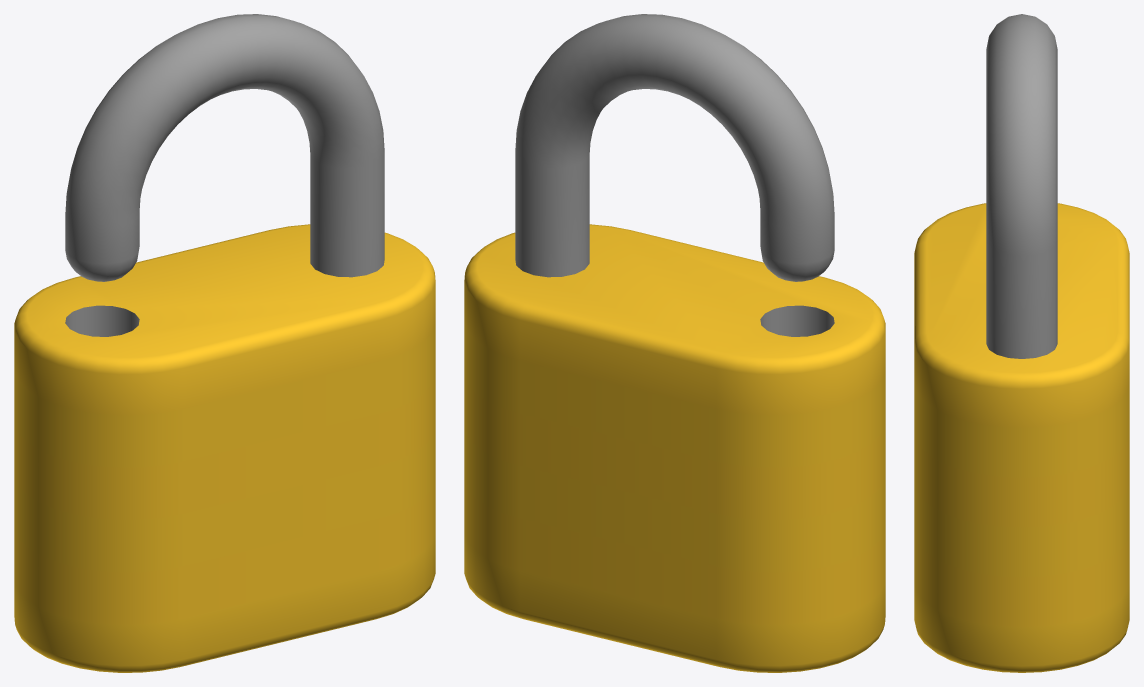
File: unlocked.glb
The picture shows the model from 3 angles, left to right: view 1: azimuth 30°, elevation 25°; view 2: azimuth 150°, elevation 25°; view 3: azimuth 270°, elevation 25°; orthographic projection. The views are drawn at different scales.
Visible parts, largest first — view 1: Circle.2578; view 2: Circle.2578; view 3: Circle.2578.
Part boxes in pixels (left/top/right/bottom): Circle.2578: left=14, top=14, right=435, bottom=672; Circle.2578: left=464, top=14, right=885, bottom=672; Circle.2578: left=914, top=14, right=1129, bottom=672.
Size of the model in its own units: 1.6 by 2.32 by 0.8.
1 material, 1 textured.
